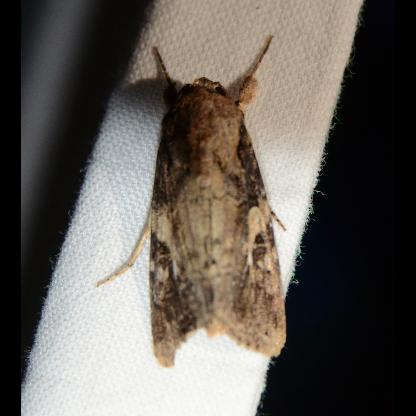Fall Armyworm Moth: (94, 32, 292, 372)
